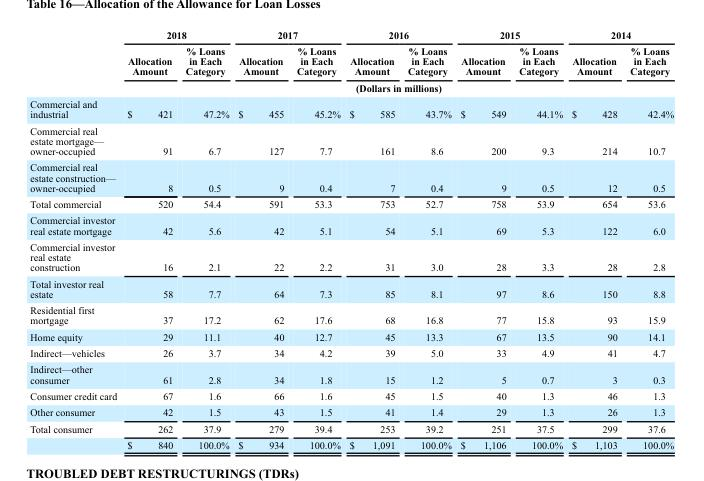table: (29, 28, 673, 450)
table column: (29, 28, 121, 450), (121, 28, 178, 450), (566, 28, 623, 450), (233, 28, 289, 450), (344, 28, 400, 450), (455, 28, 511, 450), (178, 28, 233, 450), (289, 28, 344, 450), (400, 28, 455, 450), (511, 28, 566, 450), (623, 28, 673, 450)
table column header: (29, 28, 673, 95)
table row: (29, 42, 673, 79), (29, 158, 673, 195), (29, 122, 673, 158), (29, 238, 673, 274), (29, 95, 673, 122), (29, 211, 673, 238), (29, 274, 673, 301), (29, 360, 673, 387), (29, 301, 673, 327), (29, 327, 673, 344), (29, 403, 673, 420), (29, 79, 673, 95), (29, 195, 673, 211), (29, 344, 673, 360), (29, 387, 673, 403), (29, 420, 673, 436), (29, 28, 673, 42), (29, 436, 673, 450)
table spanning cell: (121, 79, 673, 95), (121, 28, 233, 42), (233, 28, 344, 42), (344, 28, 455, 42), (455, 28, 566, 42), (566, 28, 673, 42)
